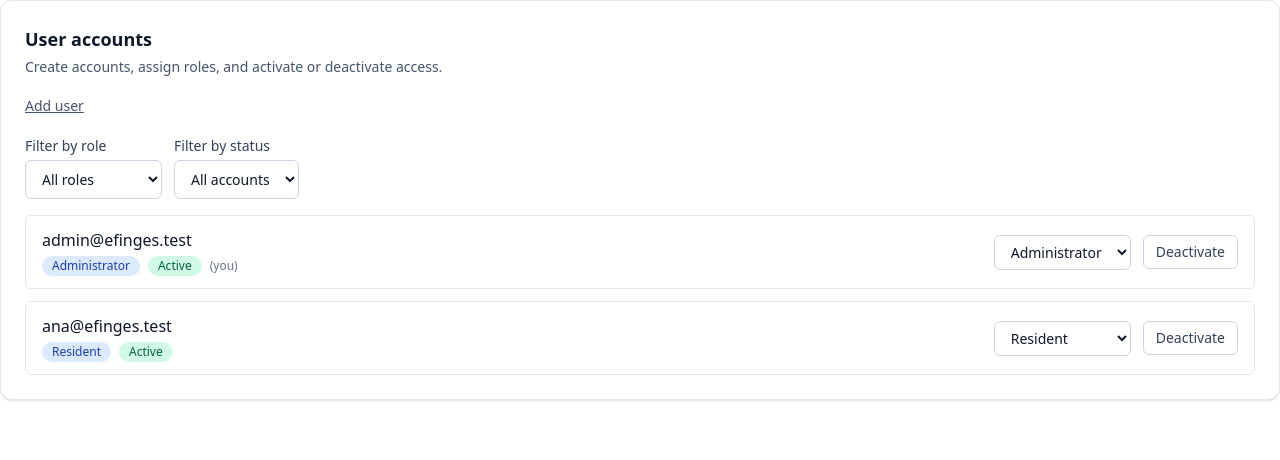
Scenario: UsersSection › refuses to demote the signed-in administrator
Expected: the list item with test id "user-1" is shown, [25,215,1255,289]
Select "Manager" in the dropdown named "Role for admin@efinges.test" at (1062,252), box [994,234,1131,270]
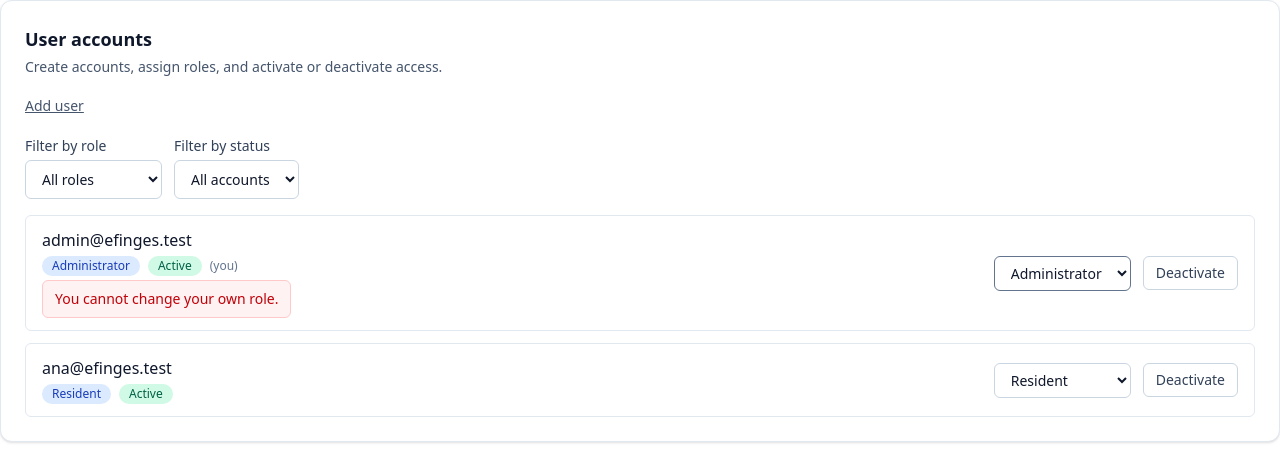
Now the text "You cannot change your own role." is shown, box [42,280,292,318]
